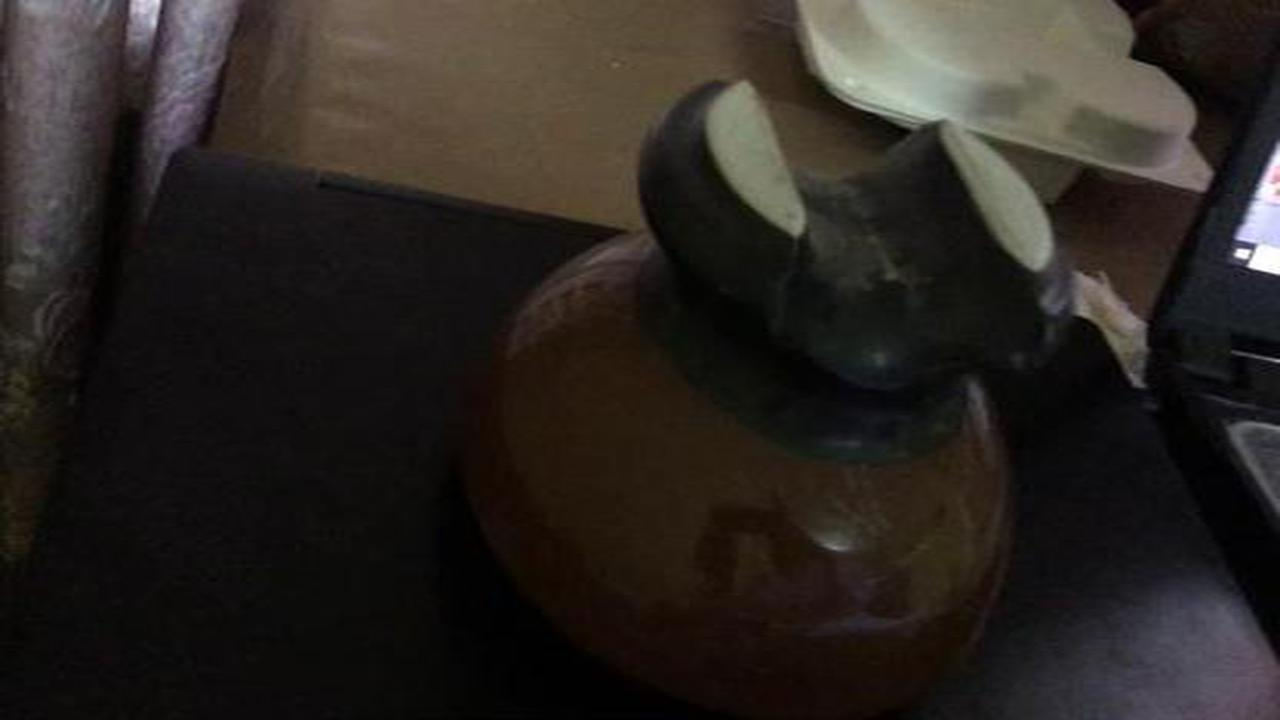insulator_pin: (437, 66, 1096, 705)
